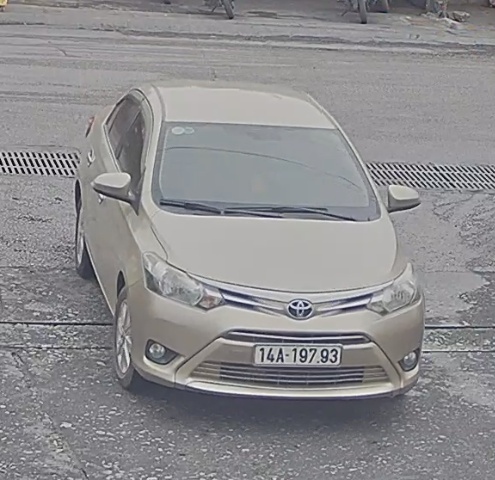vehicle plate: (249, 332, 354, 371)
